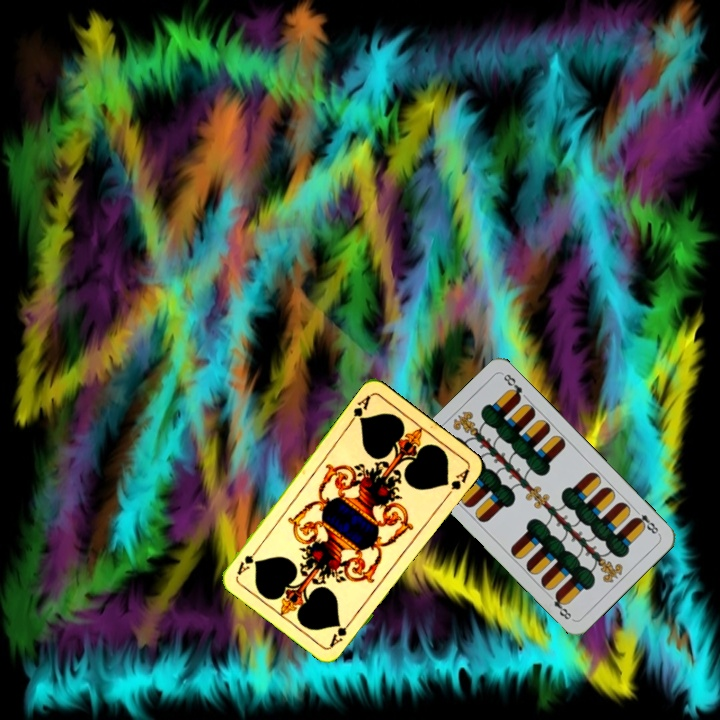E8: (630, 505, 662, 537)
GA: (326, 615, 356, 650), (345, 391, 374, 427)
